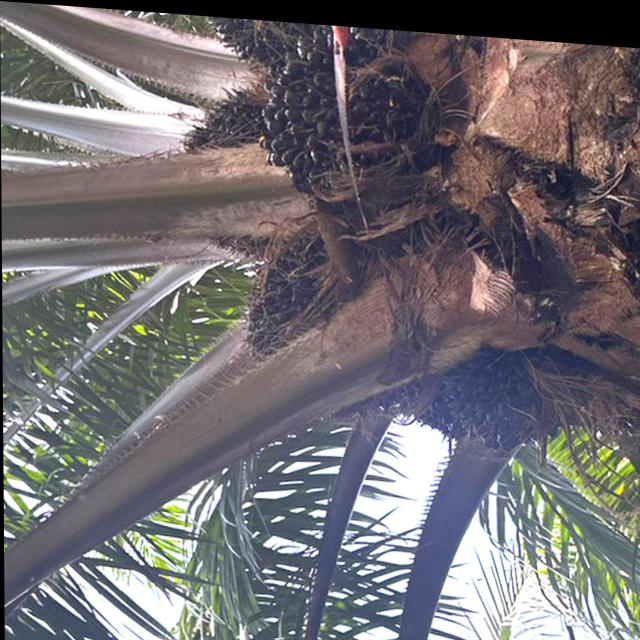unripe: (264, 18, 442, 231), (240, 232, 362, 359)
